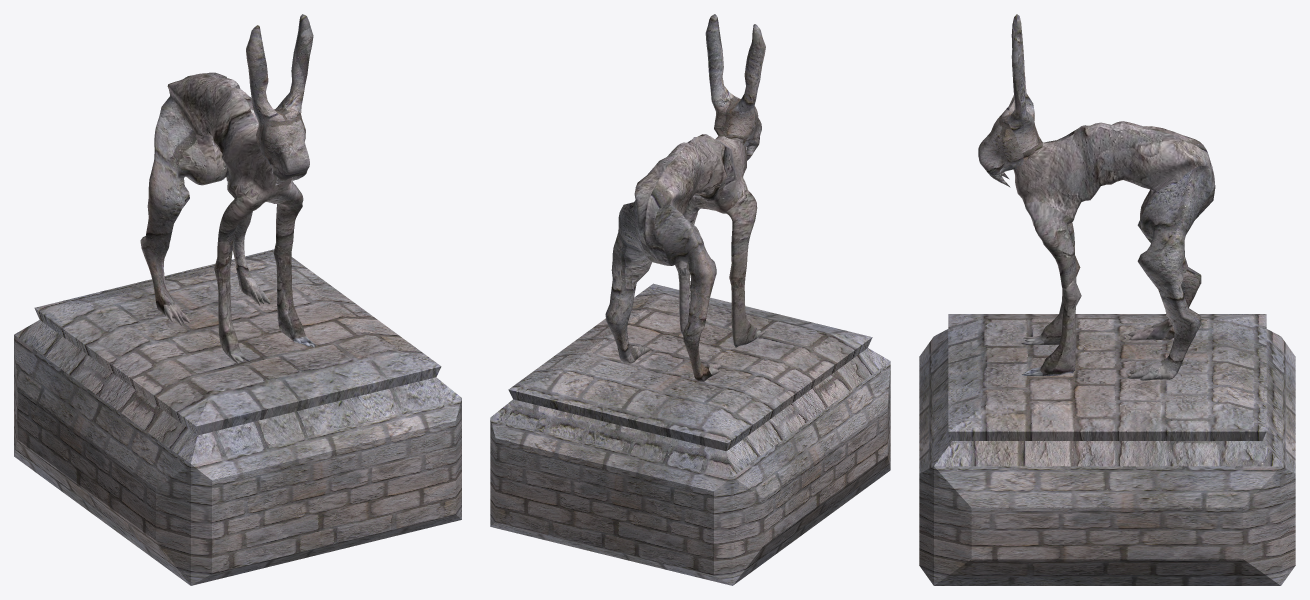
File: EvilBunnyStatue.FBX
3 renders of one model, left to right at view 1: azimuth 30°, elevation 25°; view 2: azimuth 150°, elevation 25°; view 3: azimuth 270°, elevation 25°, orthographic. The views are drawn at different scales.
Visible parts, largest first — view 1: Box001, EvilBunny; view 2: Box001, EvilBunny; view 3: Box001, EvilBunny.
Boxes of the visible parts, x1,y1,x2,y2 form: Box001: (14,249,461,585); EvilBunny: (140,14,315,364); Box001: (490,283,890,585); EvilBunny: (605,14,766,381); Box001: (919,314,1295,585); EvilBunny: (978,14,1215,380).
Bounding box in the file's own units: 52.87 × 84.16 × 58.08.
1 material, 1 textured.
